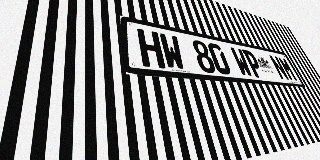0: (206, 42, 232, 75)
8: (190, 39, 217, 74)
H: (137, 28, 166, 69)
M: (277, 56, 298, 81)
N: (268, 55, 290, 81)
P: (242, 49, 265, 78)
W: (158, 33, 186, 71), (229, 47, 254, 77)
